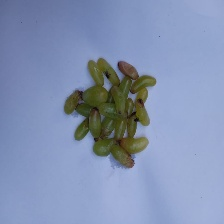grapes: (25, 2, 180, 181)
